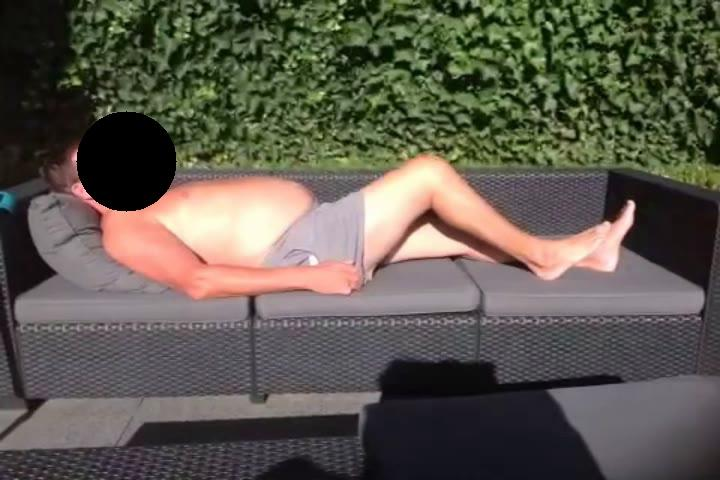lower_body: (285, 154, 639, 286)
